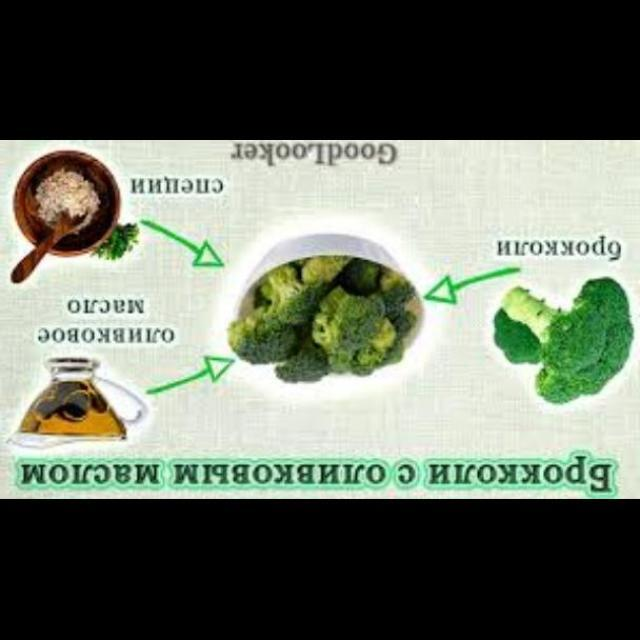Broccoli: (219, 264, 421, 378), (480, 263, 638, 407)
